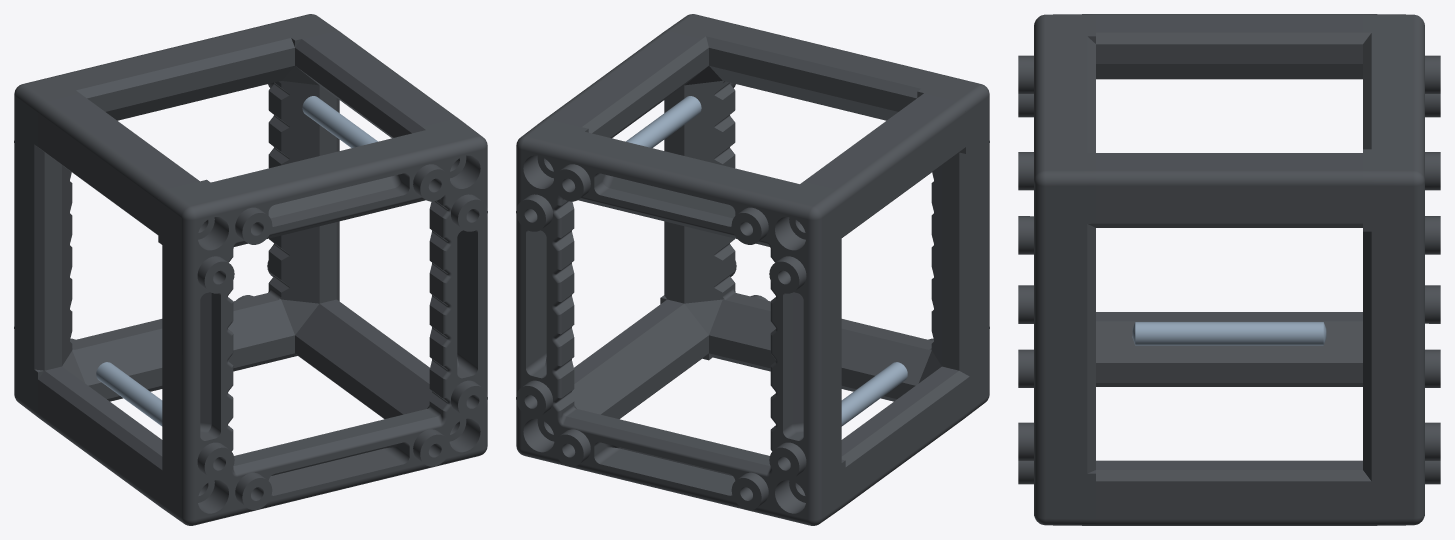
The model's file is ASS_-_2015_-_CUBDICSPLS30510FILD25530_-_NICHT_VERWENDEN.glb.
The picture shows the model from 3 angles, left to right: view 1: azimuth 30°, elevation 25°; view 2: azimuth 150°, elevation 25°; view 3: azimuth 270°, elevation 25°; orthographic projection. The views are drawn at different scales.
Parts seen in each view (by area): view 1: PRT - 1003 - CUBHLF111 - V04:2, PRT - 1003 - CUBHLF111 - V04:1, DIN 7 - Cylindrical pin - 3m6 x 24 - A1:1, DIN 7 - Cylindrical pin - 3m6 x 24 - A1:2; view 2: PRT - 1003 - CUBHLF111 - V04:1, PRT - 1003 - CUBHLF111 - V04:2, DIN 7 - Cylindrical pin - 3m6 x 24 - A1:1, DIN 7 - Cylindrical pin - 3m6 x 24 - A1:2; view 3: PRT - 1003 - CUBHLF111 - V04:2, PRT - 1003 - CUBHLF111 - V04:1, DIN 7 - Cylindrical pin - 3m6 x 24 - A1:1.
Part boxes in pixels (x1=…): PRT - 1003 - CUBHLF111 - V04:2: x1=38, y1=31, x2=487, y2=525; PRT - 1003 - CUBHLF111 - V04:1: x1=14, y1=14, x2=455, y2=429; DIN 7 - Cylindrical pin - 3m6 x 24 - A1:1: x1=96, y1=362, x2=162, y2=426; DIN 7 - Cylindrical pin - 3m6 x 24 - A1:2: x1=302, y1=96, x2=377, y2=148; PRT - 1003 - CUBHLF111 - V04:1: x1=516, y1=93, x2=965, y2=525; PRT - 1003 - CUBHLF111 - V04:2: x1=544, y1=14, x2=989, y2=506; DIN 7 - Cylindrical pin - 3m6 x 24 - A1:1: x1=841, y1=362, x2=907, y2=426; DIN 7 - Cylindrical pin - 3m6 x 24 - A1:2: x1=626, y1=96, x2=701, y2=148; PRT - 1003 - CUBHLF111 - V04:2: x1=1018, y1=14, x2=1362, y2=525; PRT - 1003 - CUBHLF111 - V04:1: x1=1096, y1=14, x2=1440, y2=525; DIN 7 - Cylindrical pin - 3m6 x 24 - A1:1: x1=1132, y1=322, x2=1326, y2=345.
Size of the model in its own units: 49.8 by 49.8 by 53.8.
